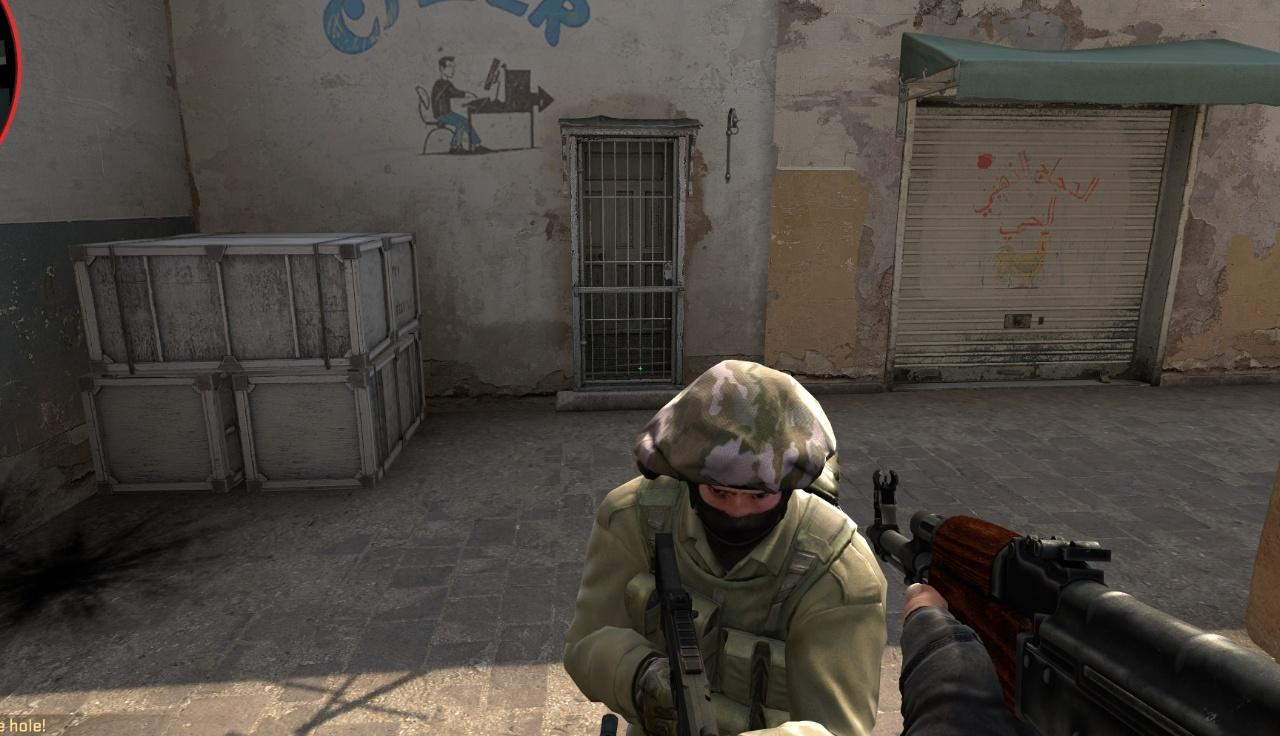ct: (593, 372, 886, 736)
cthead: (677, 374, 804, 539)
rifle: (869, 469, 1280, 736)
